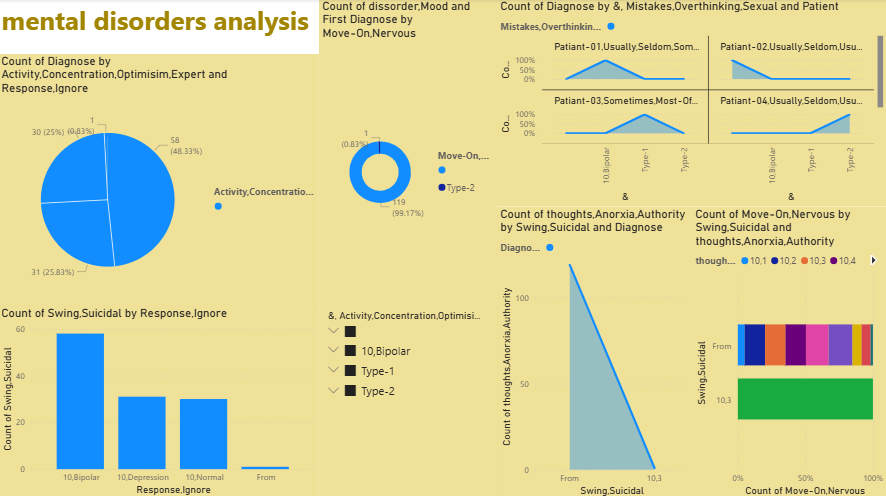

Layout of this report page (visuals, bound fields, positions):
{"tool":"powerbi","page":{"name":"Page 1","canvas":[1280,720],"ordinal":0},"visuals":[{"type":"pieChart","fields":{"Category":["mental_disorders_dataset (2).Activity,Concentration,Optimisim,Expert"],"Y":["CountNonNull(mental_disorders_dataset (2).Diagnose)"],"Series":["mental_disorders_dataset (2).Response,Ignore"]},"box":[0,79,461.9,362.8],"z":0},{"type":"clusteredColumnChart","fields":{"Category":["mental_disorders_dataset (2).Response,Ignore"],"Y":["CountNonNull(mental_disorders_dataset (2).Swing,Suicidal)"]},"box":[0,442.1,462.2,277.9],"z":1000},{"type":"actionButton","box":[0,0,100,40],"z":2000},{"type":"donutChart","fields":{"Category":["mental_disorders_dataset (2).Move-On,Nervous"],"Y":["CountNonNull(mental_disorders_dataset (2).dissorder,Mood)"]},"box":[461.9,0,257,441.8],"z":3000},{"type":"hundredPercentStackedAreaChart","fields":{"Y":["CountNonNull(mental_disorders_dataset (2).Diagnose)"],"Category":["mental_disorders_dataset (2).&"],"Series":["mental_disorders_dataset (2).Mistakes,Overthinking,Sexual"],"Rows":["mental_disorders_dataset (2).Patient"]},"box":[719,0,561,299],"z":4000},{"type":"areaChart","fields":{"Category":["mental_disorders_dataset (2).Swing,Suicidal"],"Series":["mental_disorders_dataset (2).Diagnose"],"Y":["CountNonNull(mental_disorders_dataset (2).thoughts,Anorxia,Authority)"]},"box":[719,299,280.5,421.6],"z":5000},{"type":"hundredPercentStackedBarChart","fields":{"Category":["mental_disorders_dataset (2).Swing,Suicidal"],"Y":["CountNonNull(mental_disorders_dataset (2).Move-On,Nervous)"],"Series":["mental_disorders_dataset (2).thoughts,Anorxia,Authority"]},"box":[999.5,299,280.5,421.6],"z":6000},{"type":"textbox","box":[0,0,461.9,79],"z":7000},{"type":"slicer","fields":{"Values":["mental_disorders_dataset (2).&","mental_disorders_dataset (2).Activity,Concentration,Optimisim,Expert","mental_disorders_dataset (2).dissorder,Mood","mental_disorders_dataset (2).Break-down,Admit","mental_disorders_dataset (2).Diagnose","mental_disorders_dataset (2).Mistakes,Overthinking,Sexual","mental_disorders_dataset (2).Move-On,Nervous","mental_disorders_dataset (2).Respect,Try-Explanation,Aggressive","mental_disorders_dataset (2).Response,Ignore","mental_disorders_dataset (2).Swing,Suicidal","mental_disorders_dataset (2).thoughts,Anorxia,Authority"]},"box":[462.2,442.1,256.7,277.9],"z":8000}]}

Visuals, with their boxes in screenshot pixels (x1, y1, x2, y2), scaled from the page's 1280x720 canvas onto the 886x496 screenshot:
pieChart - mental_disorders_dataset (2).Activity,Concentration,Optimisim,Expert x CountNonNull(mental_disorders_dataset (2).Diagnose): box=[0, 54, 320, 304]
clusteredColumnChart - mental_disorders_dataset (2).Response,Ignore x CountNonNull(mental_disorders_dataset (2).Swing,Suicidal): box=[0, 305, 320, 495]
actionButton: box=[0, 0, 69, 28]
donutChart - mental_disorders_dataset (2).Move-On,Nervous x CountNonNull(mental_disorders_dataset (2).dissorder,Mood): box=[320, 0, 498, 304]
hundredPercentStackedAreaChart - CountNonNull(mental_disorders_dataset (2).Diagnose) x mental_disorders_dataset (2).&: box=[498, 0, 885, 206]
areaChart - mental_disorders_dataset (2).Swing,Suicidal x mental_disorders_dataset (2).Diagnose: box=[498, 206, 692, 495]
hundredPercentStackedBarChart - mental_disorders_dataset (2).Swing,Suicidal x CountNonNull(mental_disorders_dataset (2).Move-On,Nervous): box=[692, 206, 885, 495]
textbox: box=[0, 0, 320, 54]
slicer - mental_disorders_dataset (2).& x mental_disorders_dataset (2).Activity,Concentration,Optimisim,Expert: box=[320, 305, 498, 495]
